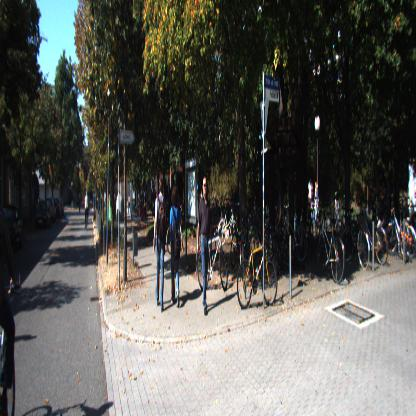car: (36, 198, 52, 229)
